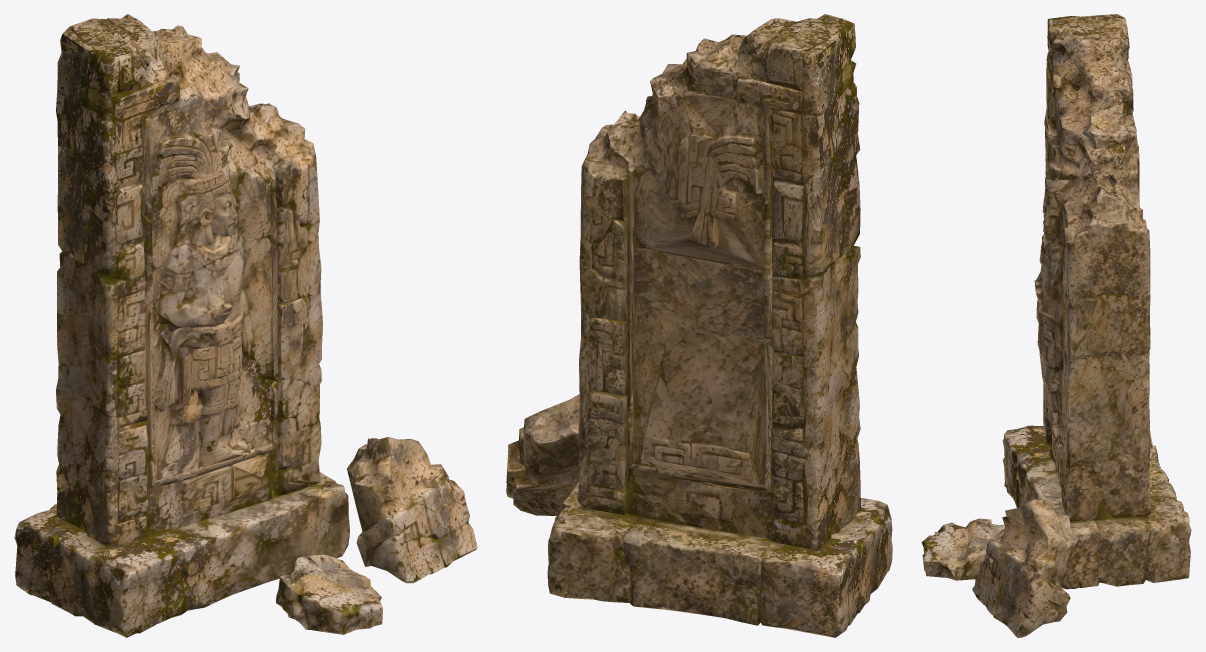
Rendered from ARQ_EstelaFragmentada_01_LOD1.fbx.
3 views of the same model, side by side, from view 1: azimuth 30°, elevation 25°; view 2: azimuth 150°, elevation 25°; view 3: azimuth 270°, elevation 25° (orthographic). The views are drawn at different scales.
Visible parts, largest first — view 1: ARQ_EstelaFragmentada_01_Mesh000; view 2: ARQ_EstelaFragmentada_01_Mesh000; view 3: ARQ_EstelaFragmentada_01_Mesh000.
Boxes of the visible parts, <box> form: ARQ_EstelaFragmentada_01_Mesh000: <box>14,14,477,637</box>; ARQ_EstelaFragmentada_01_Mesh000: <box>506,14,892,637</box>; ARQ_EstelaFragmentada_01_Mesh000: <box>921,14,1191,637</box>.
Size of the model in its own units: 1.96 by 2.7 by 1.38.
